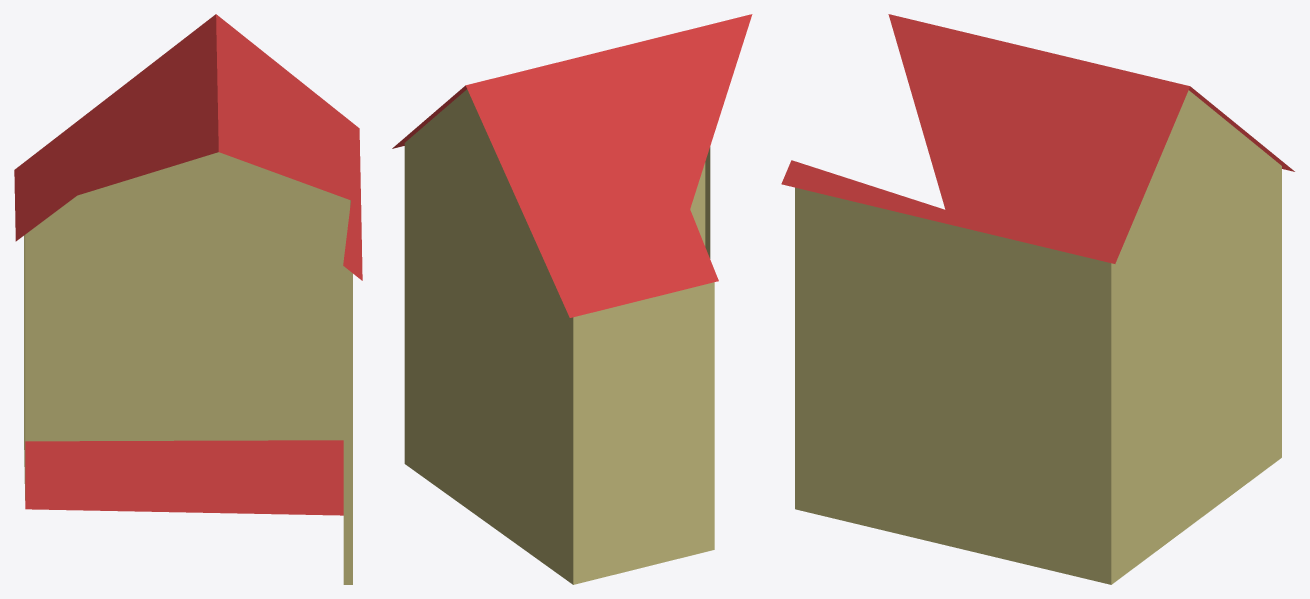
3 views of the same model, side by side, from view 1: azimuth 30°, elevation 25°; view 2: azimuth 150°, elevation 25°; view 3: azimuth 270°, elevation 25° (orthographic). The views are drawn at different scales.
Bounding box in the file's own units: 10.05 × 12.68 × 12.2.
